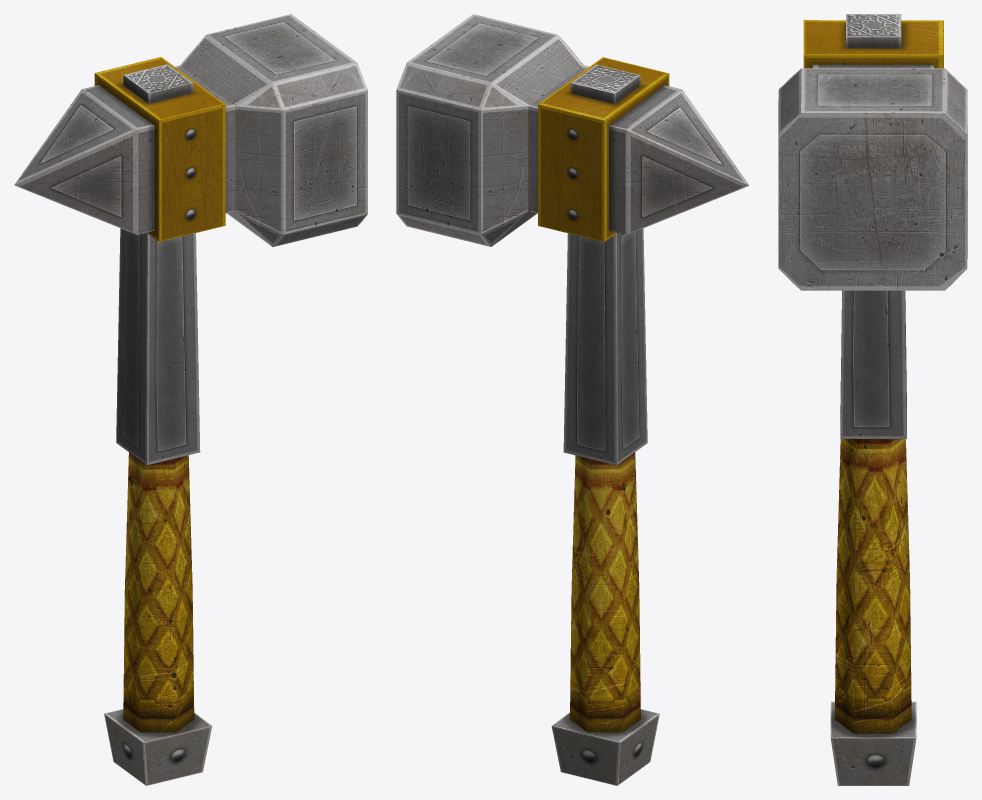
File: hammer01_regular.FBX
The picture shows the model from 3 angles, left to right: view 1: azimuth 30°, elevation 25°; view 2: azimuth 150°, elevation 25°; view 3: azimuth 270°, elevation 25°; orthographic projection. The views are drawn at different scales.
Parts seen in each view (by area): view 1: hammer01; view 2: hammer01; view 3: hammer01.
Part boxes in pixels (left/top/right/bottom): hammer01: left=14, top=14, right=367, bottom=785; hammer01: left=396, top=14, right=749, bottom=785; hammer01: left=778, top=14, right=967, bottom=785.
Size of the model in its own units: 0.4364 by 0.9256 by 0.2131.
